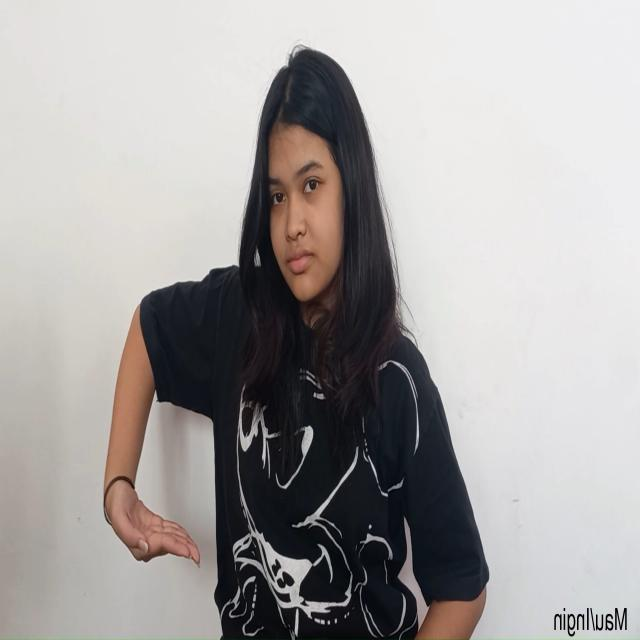Mau-Ingin -BISINDO-: (102, 473, 203, 573)
